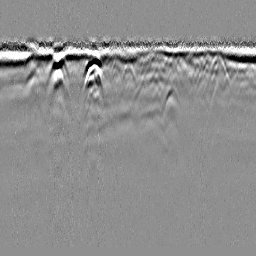cavity: (119, 62, 137, 86)
